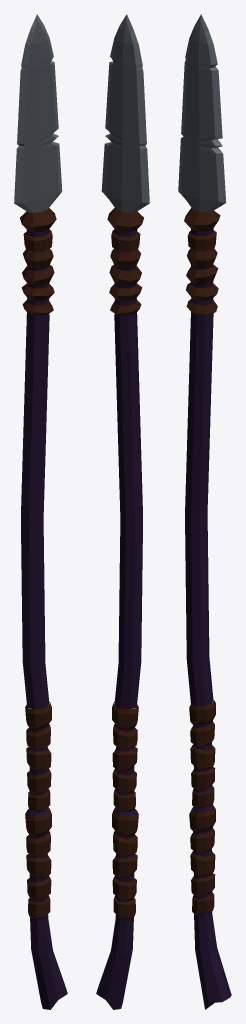
The model's file is Spear.glb.
3 views of the same model, side by side, from view 1: azimuth 30°, elevation 25°; view 2: azimuth 150°, elevation 25°; view 3: azimuth 330°, elevation 25° (orthographic).
Parts seen in each view (by area): view 1: Spear; view 2: Spear; view 3: Spear.
Boxes of the visible parts, bbox=[...] form: Spear: bbox=[14, 14, 67, 1009]; Spear: bbox=[96, 14, 149, 1009]; Spear: bbox=[178, 14, 231, 1009].
Bounding box in the file's own units: 0.0709 × 1.3 × 0.0435.
